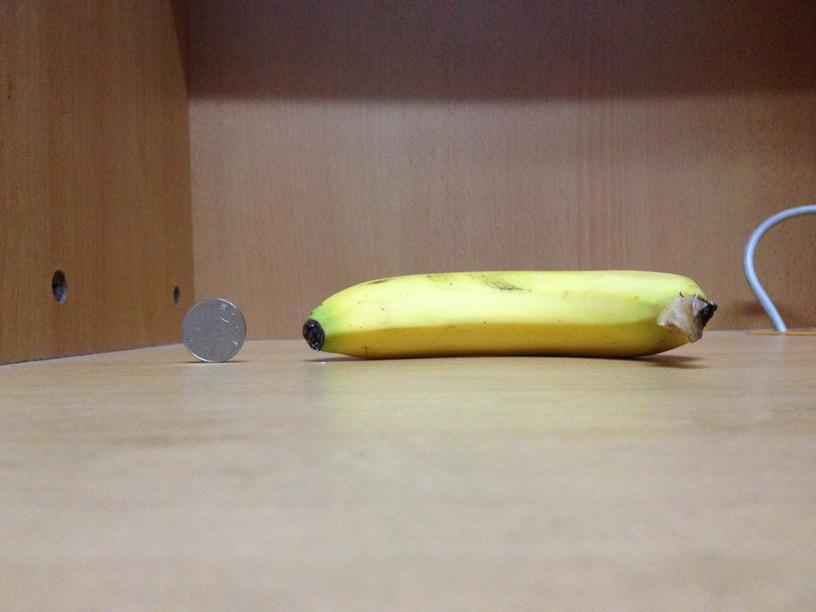banana: (306, 268, 706, 355)
coin: (178, 295, 247, 362)
